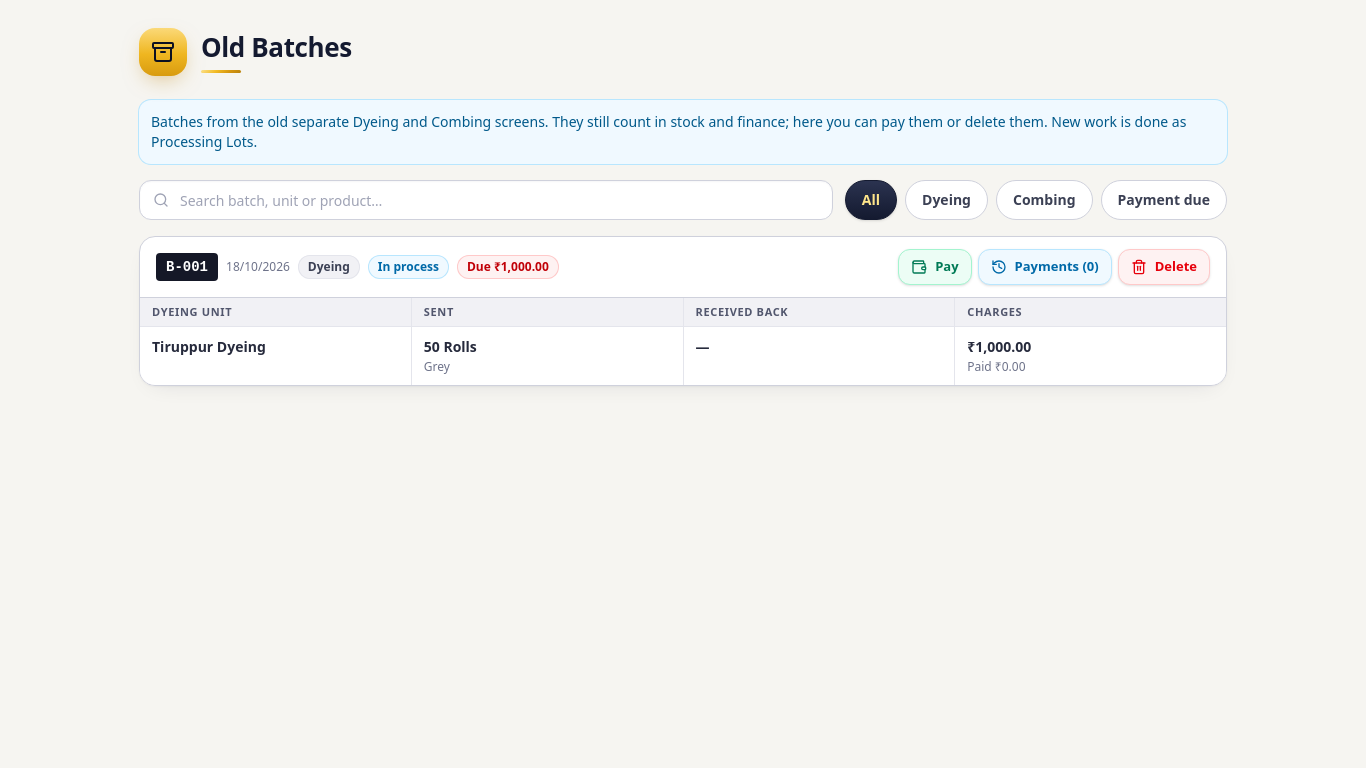
Scenario: other processing pages render › an old batch can be deleted for good (after confirming)
This screenshot has width=1366, height=768.
Click the button "Delete" at (1164, 267), box [1118,249,1210,285]
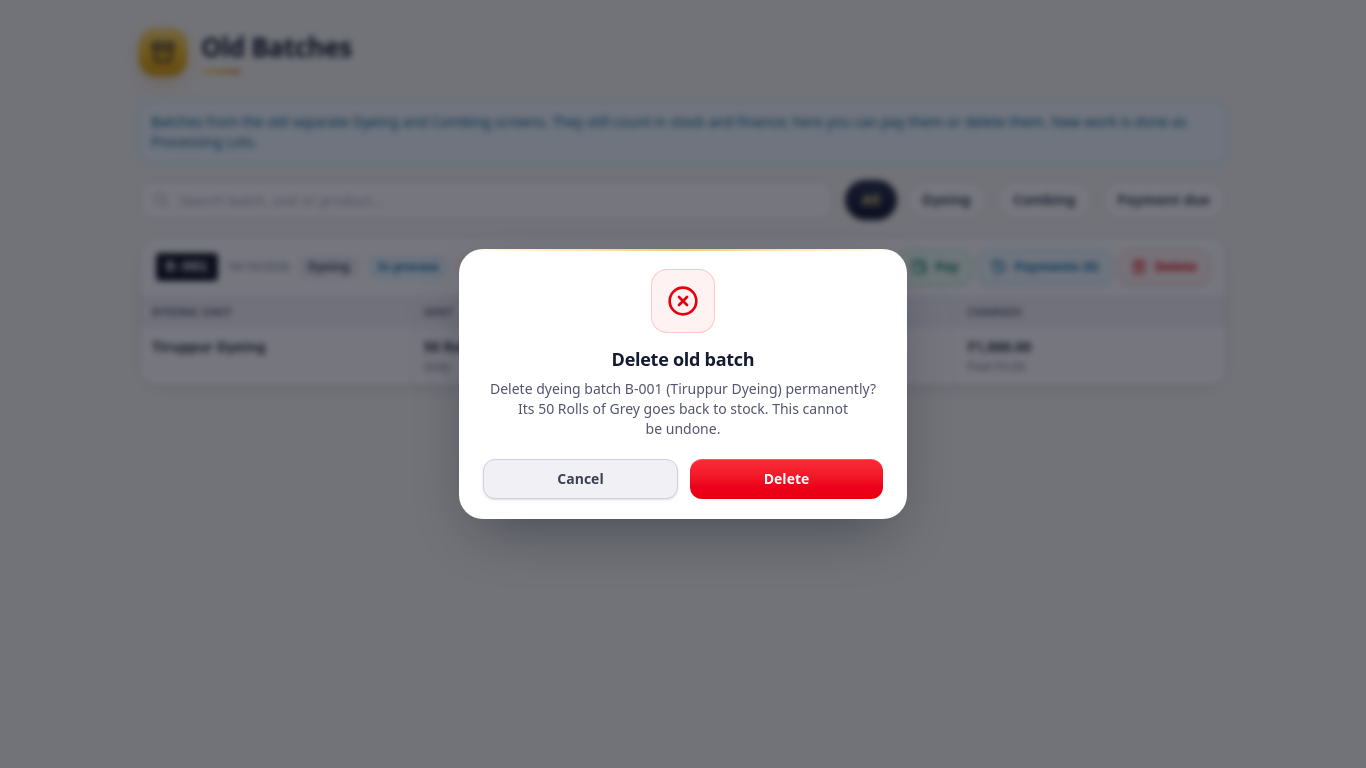
Expected: the text "permanently" is shown, [490,379,876,438]
Click the button "Delete" at (786, 479), box [690,459,883,499]
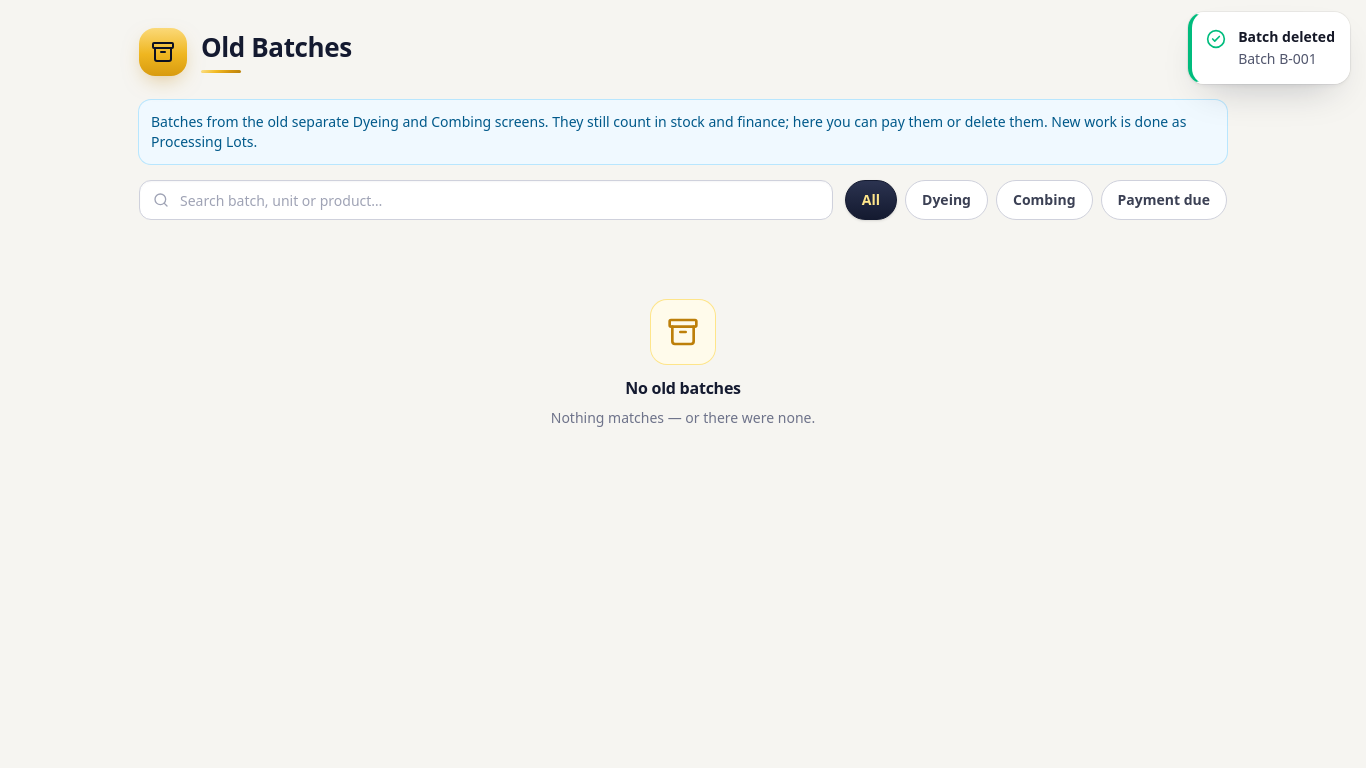
Expected: the text "Tiruppur Dyeing" is gone
